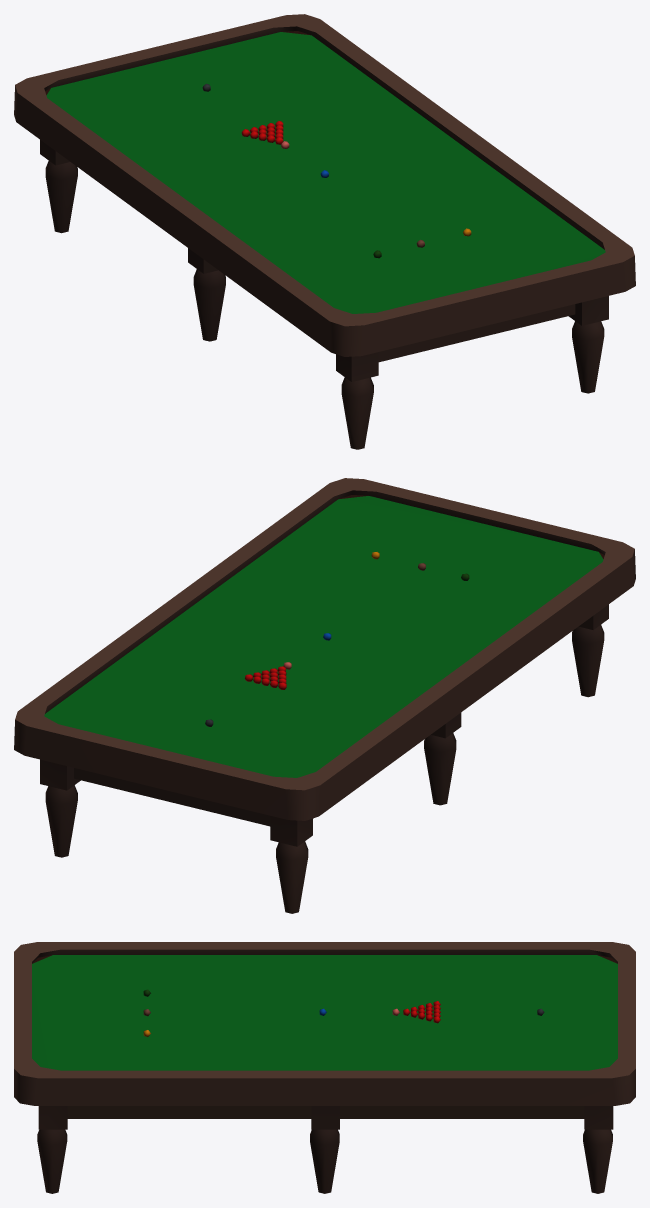
File: human-sports-pool-table_v1.fbx
3 views of the same model, one above another, from view 1: azimuth 30°, elevation 25°; view 2: azimuth 150°, elevation 25°; view 3: azimuth 270°, elevation 25° (orthographic). The views are drawn at different scales.
Parts seen in each view (by area): view 1: Pool Table; view 2: Pool Table; view 3: Pool Table.
Part boxes in pixels (x1,y1,x2,y2): Pool Table: (14,14,635,449); Pool Table: (14,478,635,913); Pool Table: (14,942,635,1193).
Bounding box in the file's own units: 1.4 × 0.6212 × 2.7.
